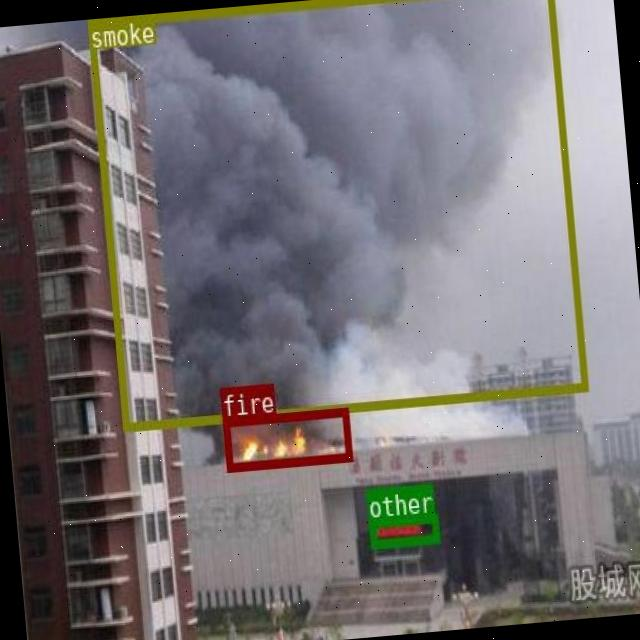fire: (220, 405, 350, 471)
smoke: (87, 0, 587, 430)
